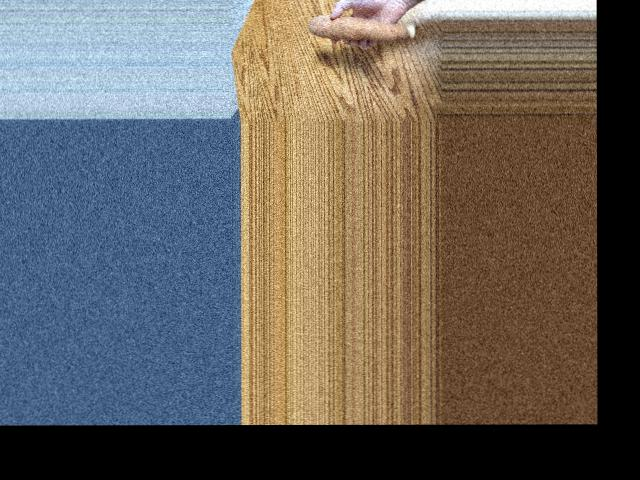sweet_potato: (307, 20, 406, 47)
